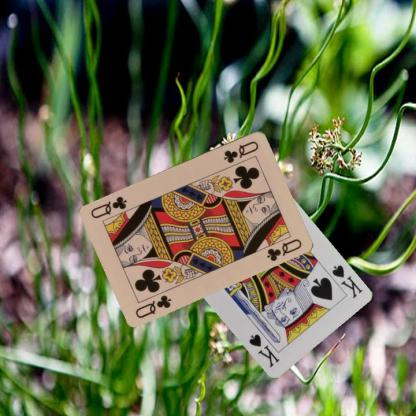Ks: (329, 262, 363, 300)
Qc: (133, 292, 173, 319), (221, 138, 260, 164)
